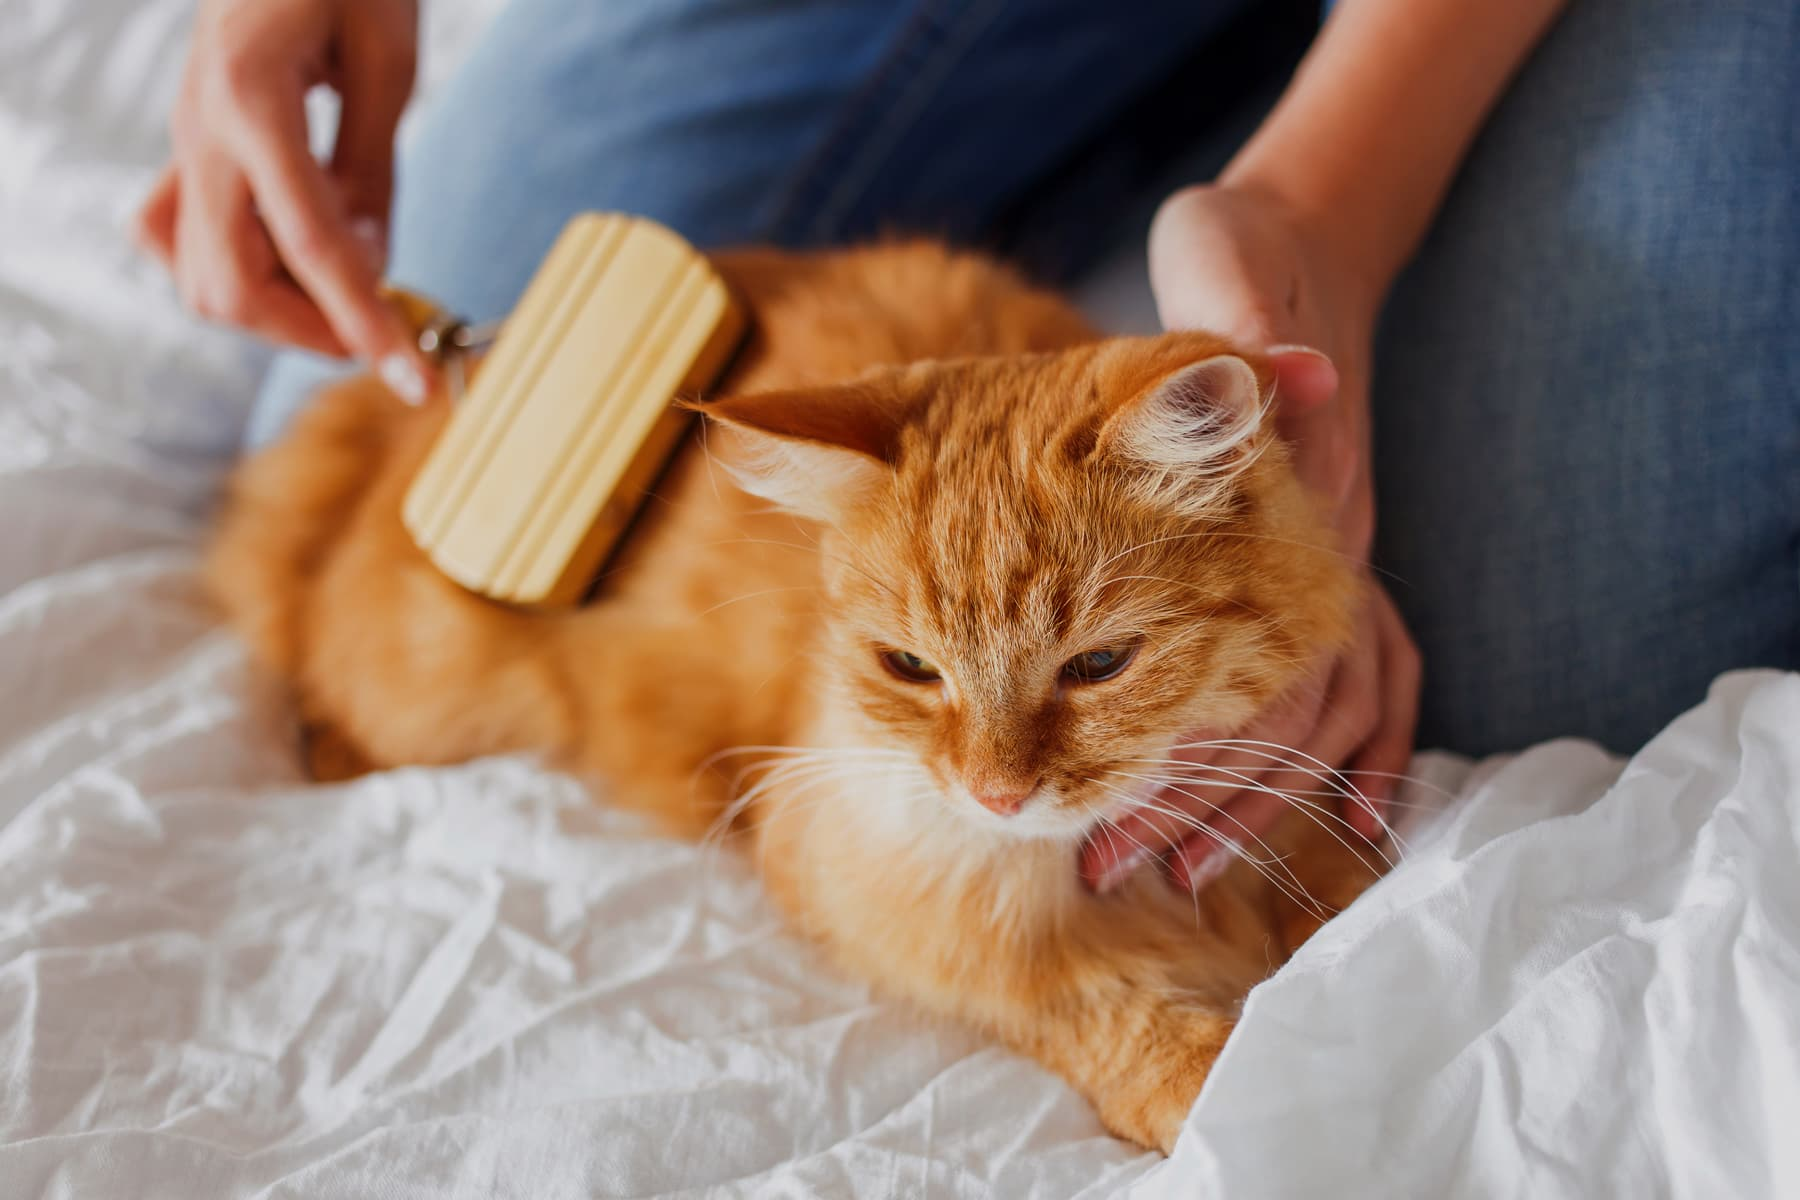cat: (605, 224, 1430, 842)
